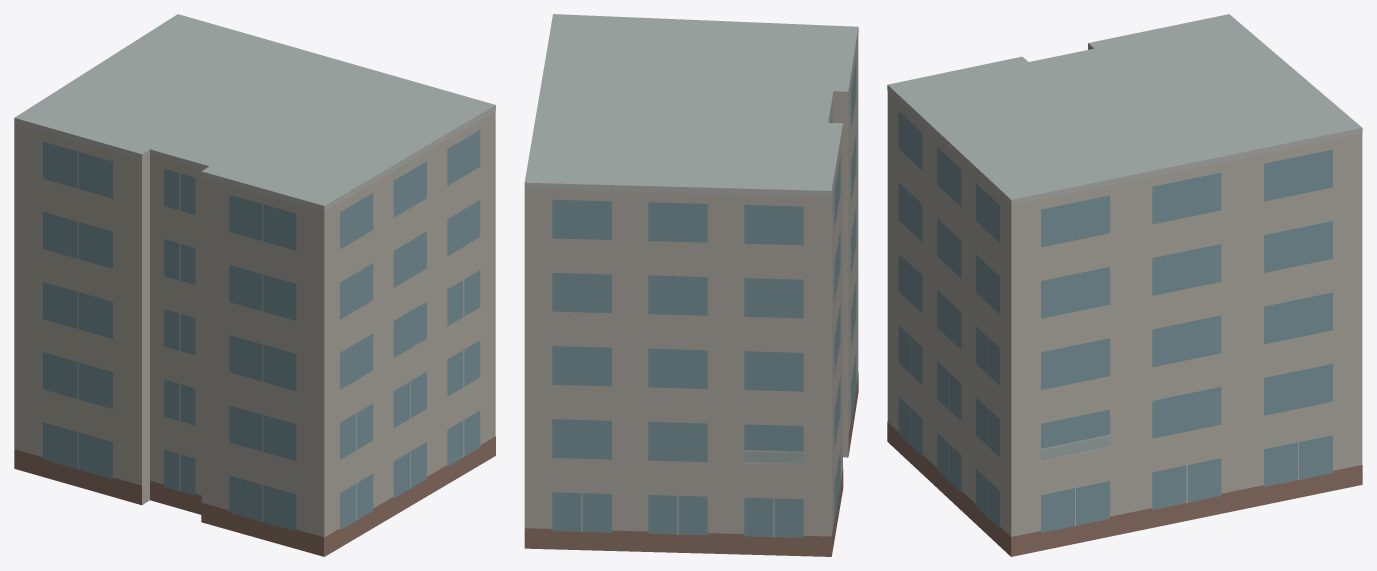
File: survey-upis-32914314.glb
3 views of the same model, side by side, from view 1: azimuth 30°, elevation 25°; view 2: azimuth 150°, elevation 25°; view 3: azimuth 270°, elevation 25° (orthographic). The views are drawn at different scales.
Visible parts, largest first — view 1: survey-upis-32914314.tmp; view 2: survey-upis-32914314.tmp; view 3: survey-upis-32914314.tmp.
Part boxes in pixels (x1,y1,x2,y2): survey-upis-32914314.tmp: [14, 14, 495, 556]; survey-upis-32914314.tmp: [524, 14, 858, 556]; survey-upis-32914314.tmp: [887, 14, 1362, 556].
Bounding box in the file's own units: 16.53 × 14.8 × 17.85.
